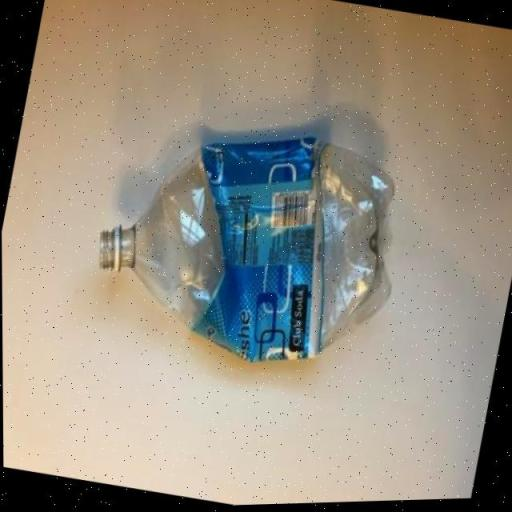plastic: (80, 97, 413, 391)
